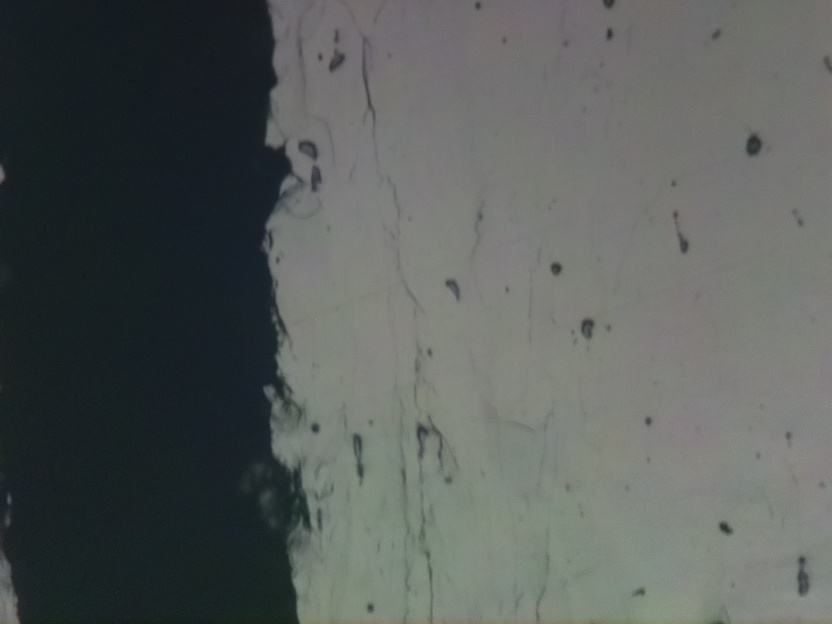crack: (0, 1, 277, 624)
